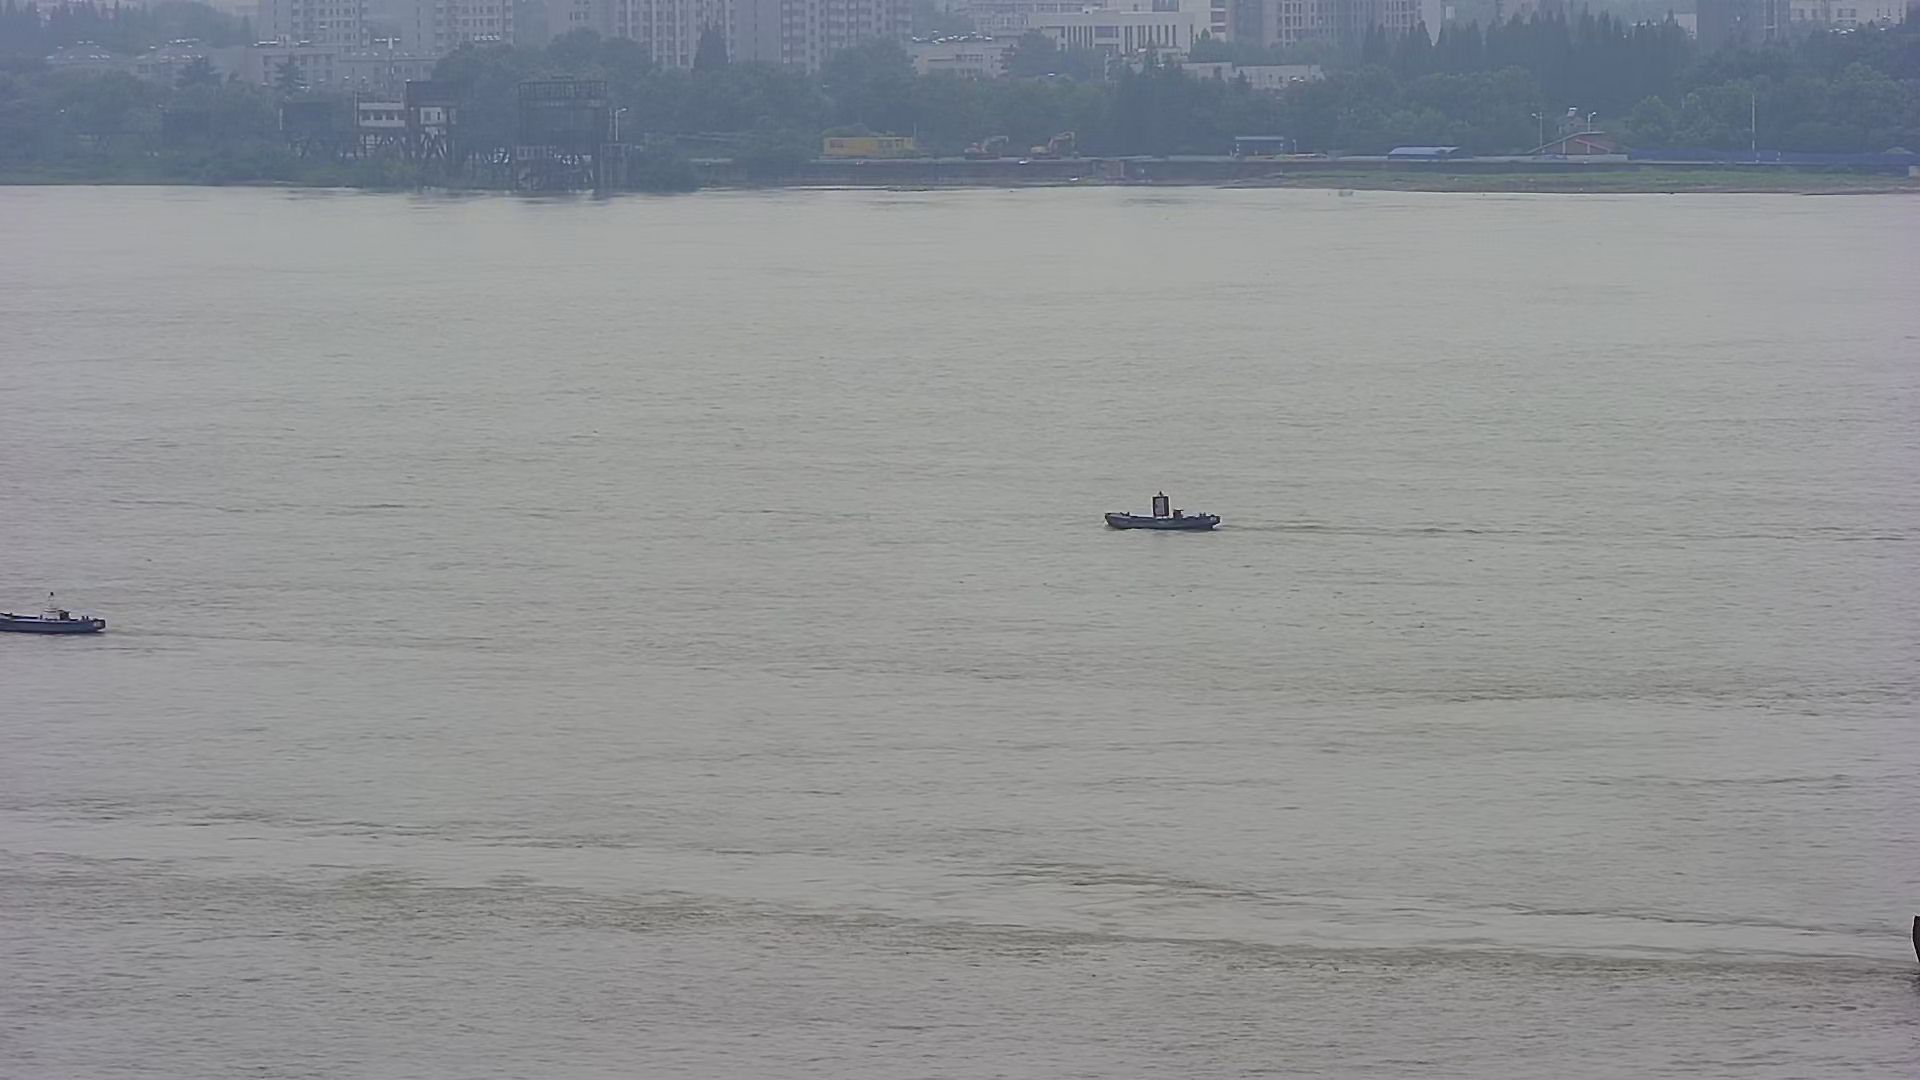boat: (1, 585, 109, 638), (1105, 491, 1226, 531)
